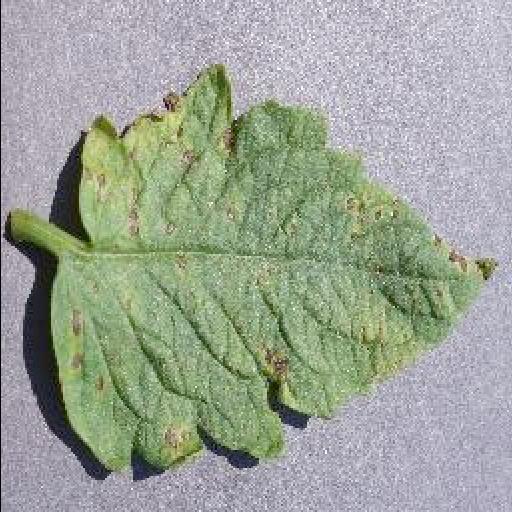disease_tomato: (50, 68, 502, 476)
